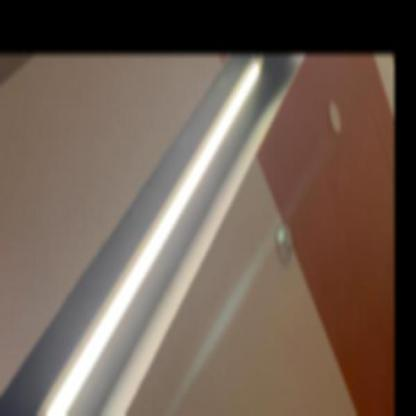light_on: (15, 54, 274, 415)
